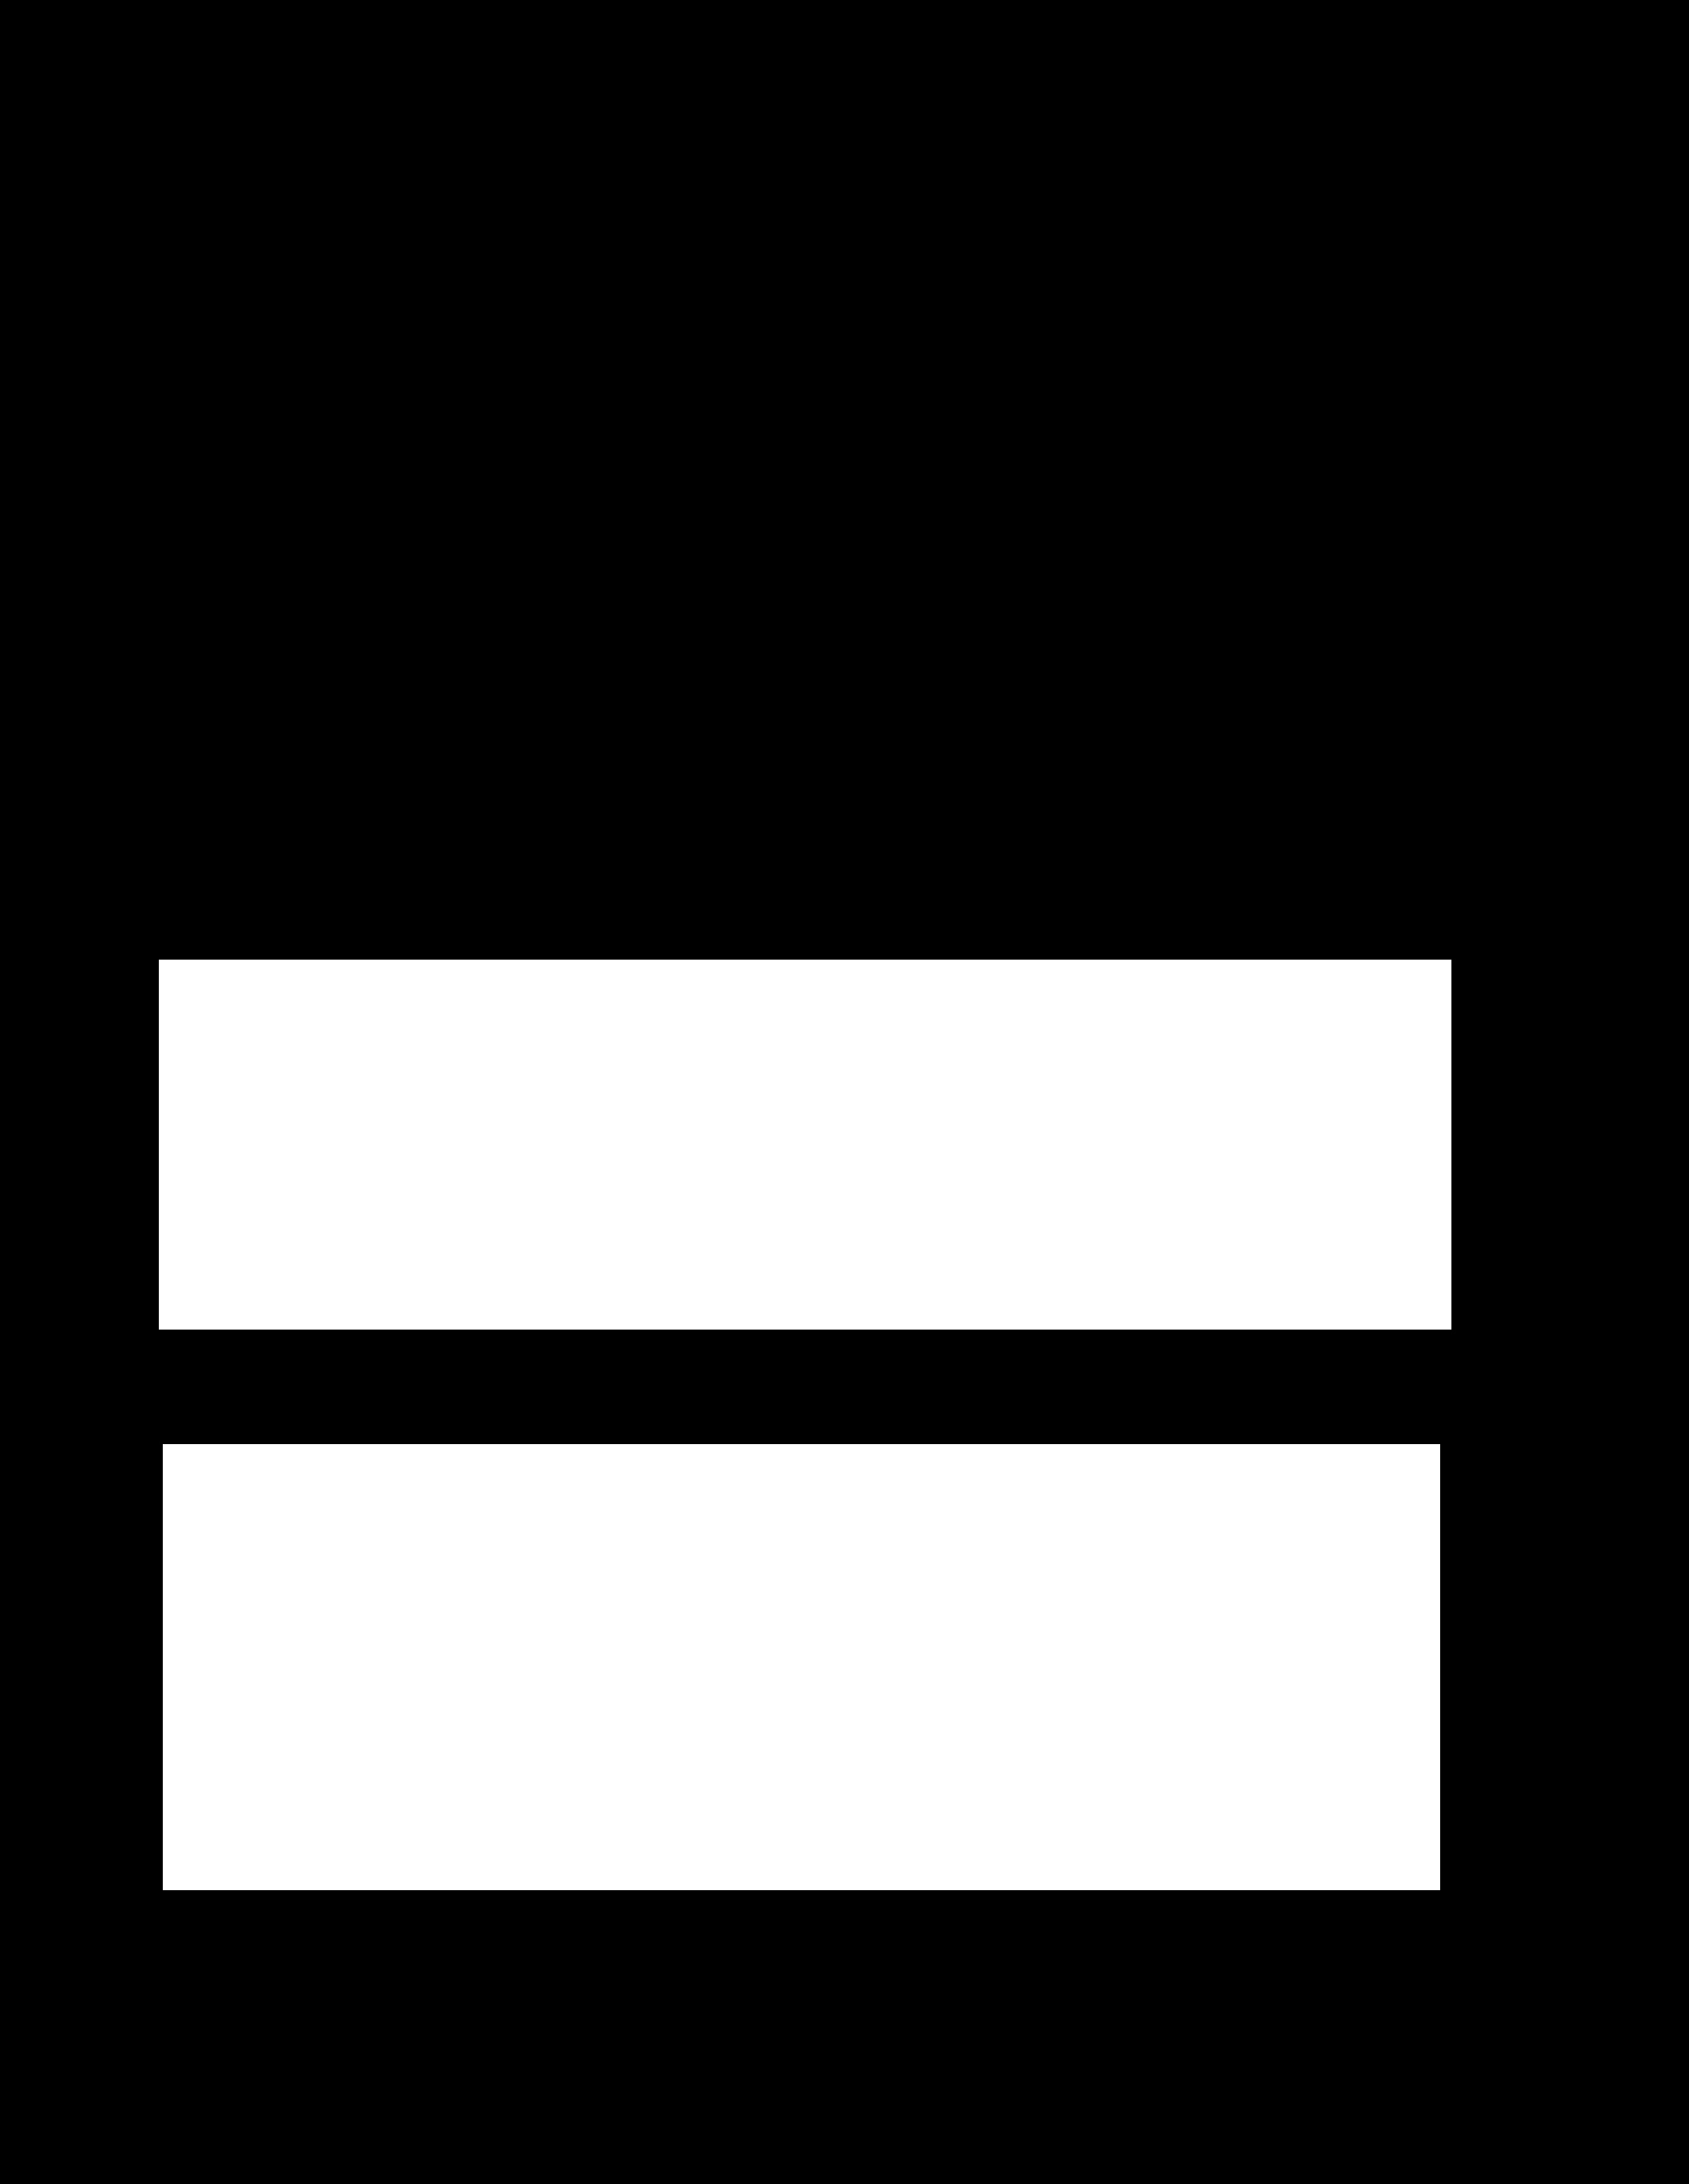table: (163, 1445, 1439, 1890), (160, 959, 1452, 1330)
